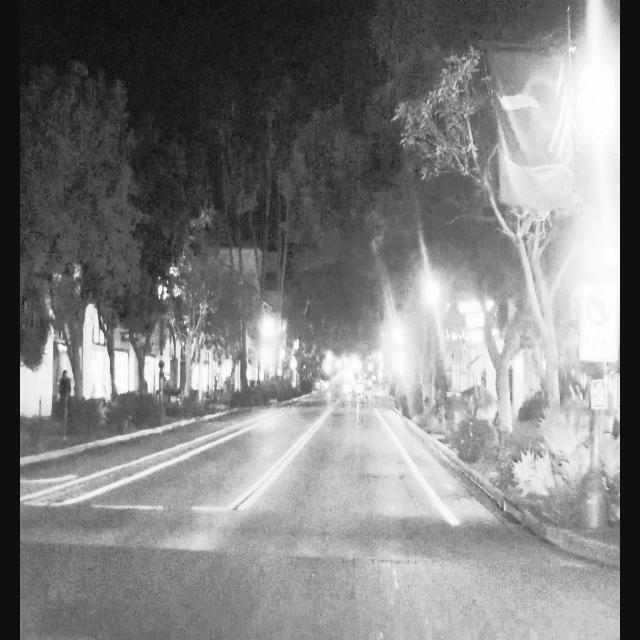Light: (604, 229, 618, 279)
Sign: (579, 282, 619, 361)
Tree: (485, 0, 582, 497)
